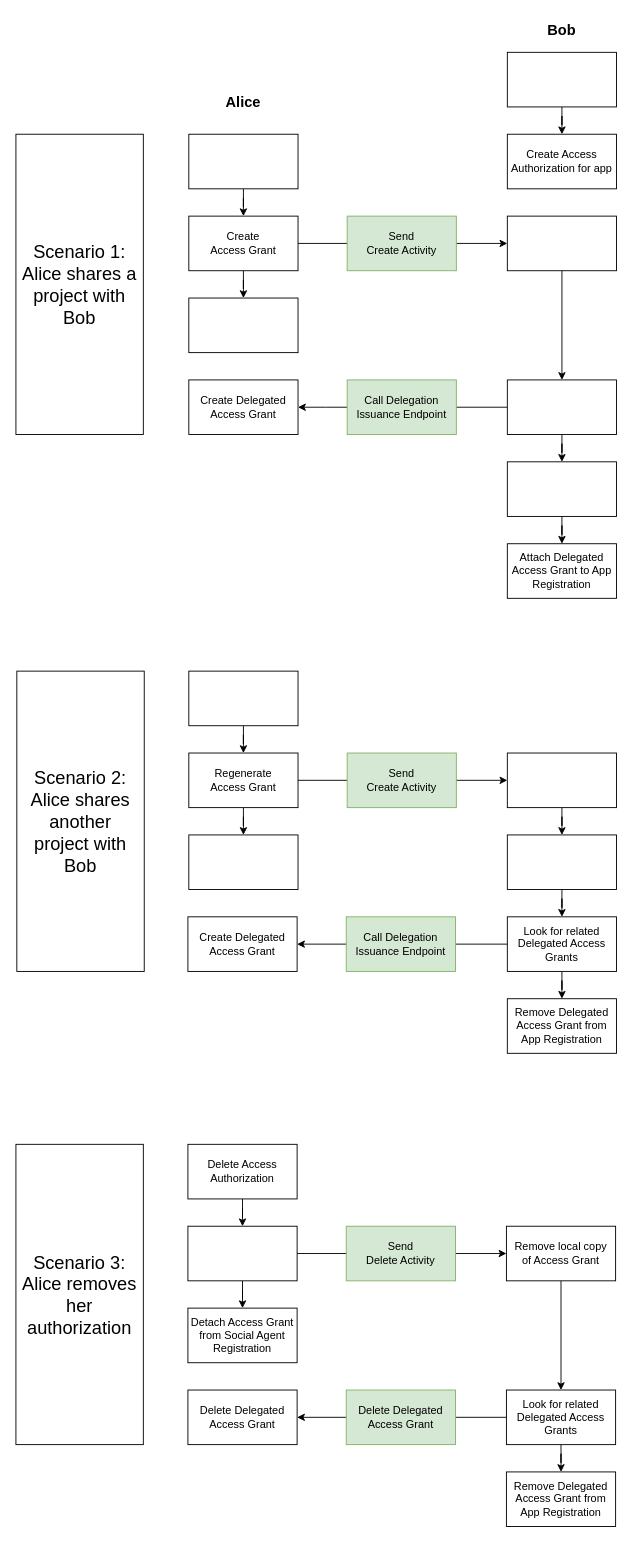
The diagram is 632 pixels wide and 1542 high, and some of its shapes have lost their labels. The shapes that lost their labels are listed below. From the top down, each one's box as (x1, y1, x2, y2) in pixels, then its label:
(506, 51, 617, 107): Register app
(188, 133, 298, 189): Create Access Authorization
(506, 215, 617, 271): Store locally Access Grant
(188, 297, 298, 353): Attach Access Grant to Social Agent Registration
(506, 379, 617, 435): Look for Access Authorizations with interop:All scope
(506, 461, 617, 516): Store Delegated Access Grant
(188, 670, 298, 726): Regenerate Access Authorization
(506, 752, 617, 808): Delete previous version of Access Grant
(188, 834, 298, 890): Update Access Grant from Social Agent Registration
(506, 834, 617, 890): Store new Access Grant
(187, 1225, 297, 1281): Delete Access Grant
